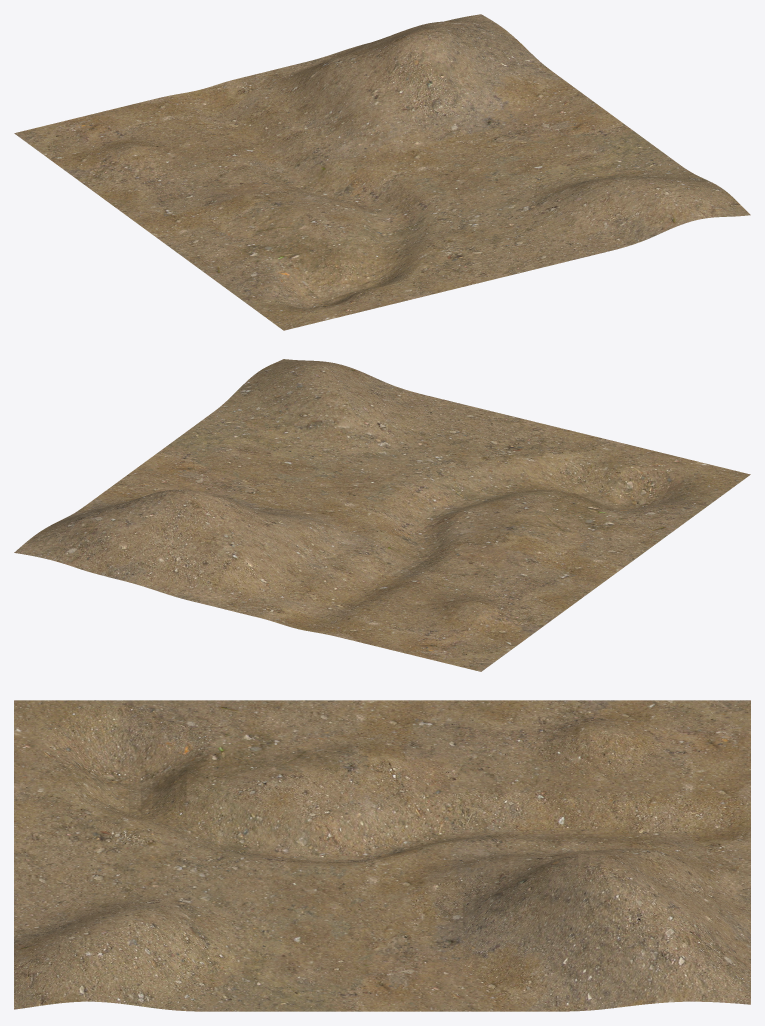
File: ground1.obj
3 views of the same model, one above another, from view 1: azimuth 30°, elevation 25°; view 2: azimuth 150°, elevation 25°; view 3: azimuth 270°, elevation 25° (orthographic). The views are drawn at different scales.
Visible parts, largest first — view 1: Plane; view 2: Plane; view 3: Plane.
Boxes of the visible parts, left/top/right/bottom form: Plane: left=14, top=14, right=750, bottom=330; Plane: left=14, top=359, right=750, bottom=671; Plane: left=14, top=700, right=750, bottom=1011.
Bounding box in the file's own units: 17.1 × 2.62 × 17.1.
1 material, 1 textured.
